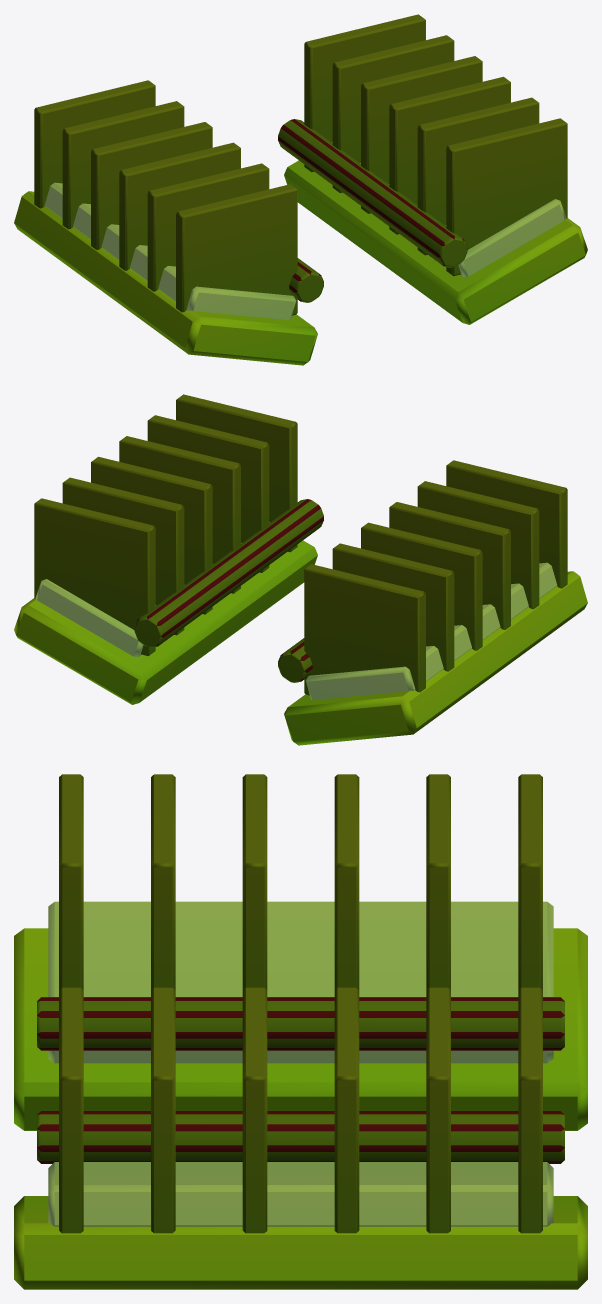
Rendered from RCLModule_surge_tank_ion_thruster_titanium_grate.fbx.
The picture shows the model from 3 angles, top to bottom: view 1: azimuth 30°, elevation 25°; view 2: azimuth 150°, elevation 25°; view 3: azimuth 270°, elevation 25°; orthographic projection. The views are drawn at different scales.
Visible parts, largest first — view 1: RCLModule_surge_tank_ion_thruster_titanium_grate_Batch_RCLMo (×3); view 2: RCLModule_surge_tank_ion_thruster_titanium_grate_Batch_RCLMo (×3); view 3: RCLModule_surge_tank_ion_thruster_titanium_grate_Batch_RCLMo (×3).
Boxes of the visible parts, left/top/right/bottom form: RCLModule_surge_tank_ion_thruster_titanium_grate_Batch_RCLMo (×3): left=14, top=14, right=587, bottom=365; RCLModule_surge_tank_ion_thruster_titanium_grate_Batch_RCLMo (×3): left=14, top=394, right=587, bottom=745; RCLModule_surge_tank_ion_thruster_titanium_grate_Batch_RCLMo (×3): left=14, top=774, right=587, bottom=1289.
Bounding box in the file's own units: 73.42 × 29.19 × 56.
